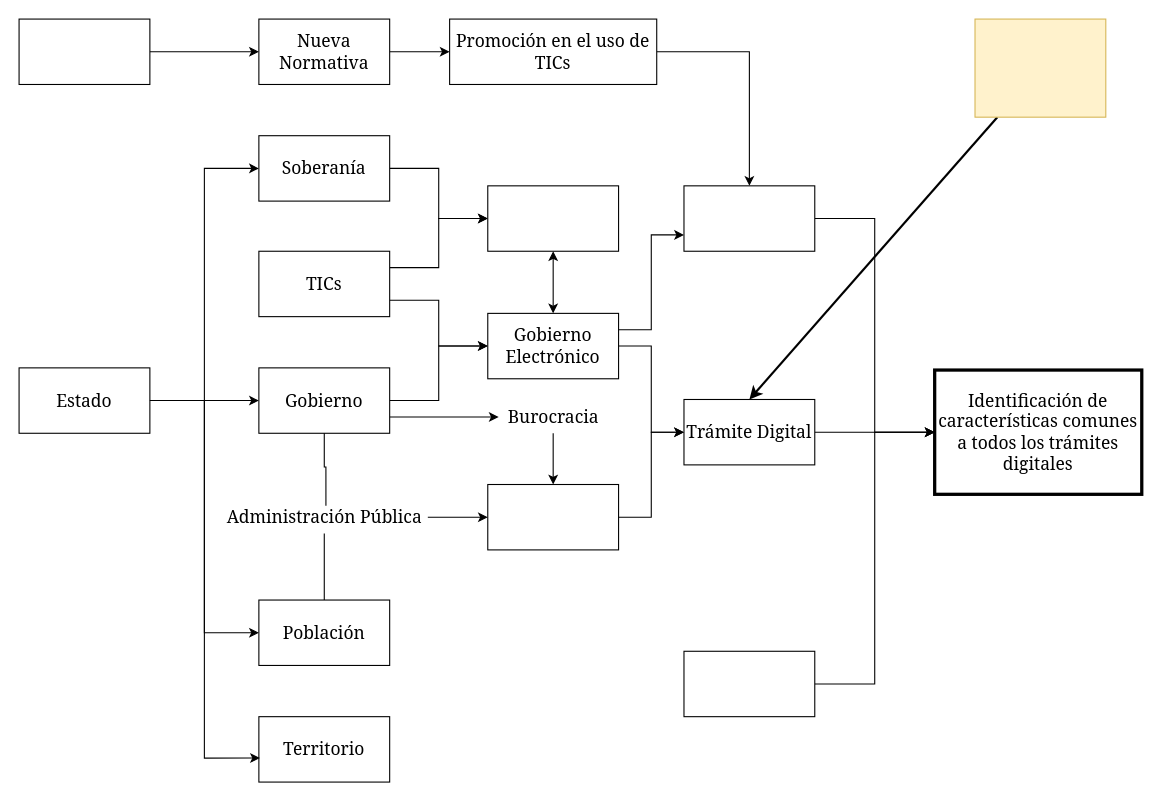
Some shapes in this 1162 by 801 pixel diagram are drawn without their labels. Each missing label, with the centre of its shape:
"2IES" goes at (749,683).
"Bolivia" goes at (84,51).
"Convenio UMSA AGETIC" goes at (1040,67).
"SIAI" goes at (749,218).
"Software Libre" goes at (553,218).
"Trámite tradicional" goes at (553,516).
